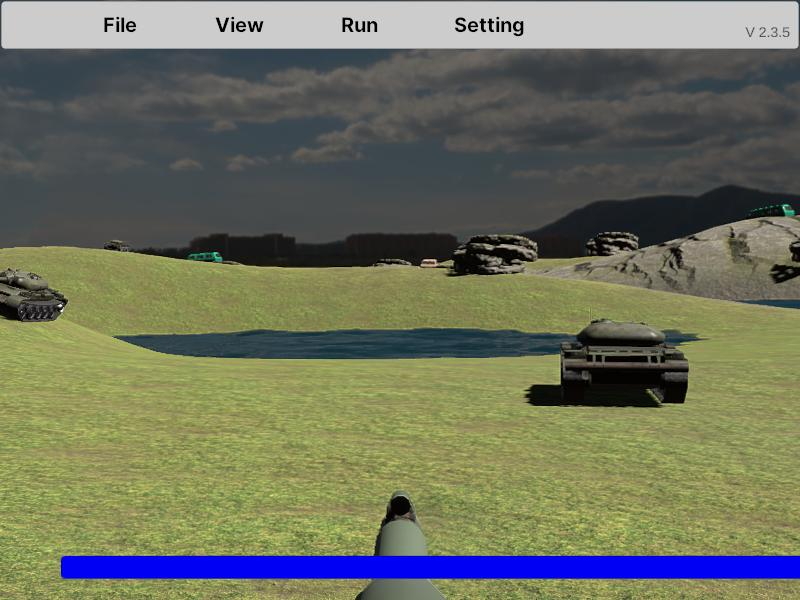Tank: (559, 317, 689, 408), (0, 267, 68, 323), (789, 224, 800, 265)
